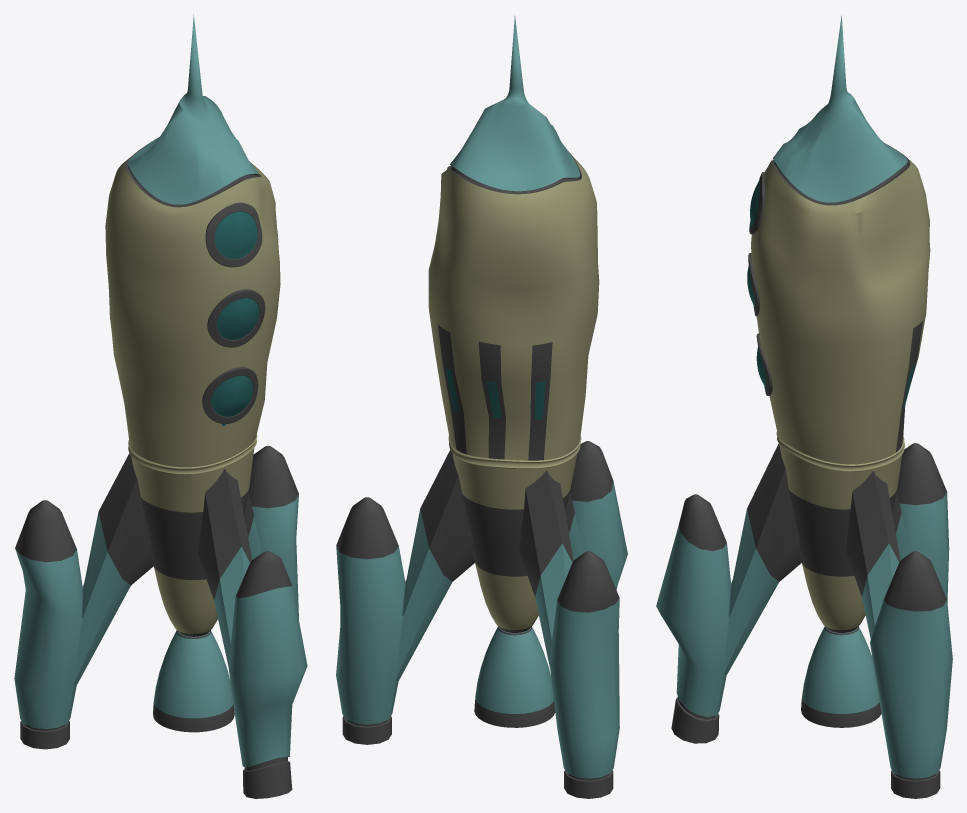
The picture shows the model from 3 angles, left to right: view 1: azimuth 30°, elevation 25°; view 2: azimuth 150°, elevation 25°; view 3: azimuth 270°, elevation 25°; orthographic projection.
Parts seen in each view (by area): view 1: R2; view 2: R2; view 3: R2.
Boxes of the visible parts, left/top/right/bottom form: R2: left=14, top=14, right=307, bottom=798; R2: left=336, top=15, right=627, bottom=798; R2: left=656, top=15, right=952, bottom=798.
Bounding box in the file's own units: 191 × 480 × 179.
